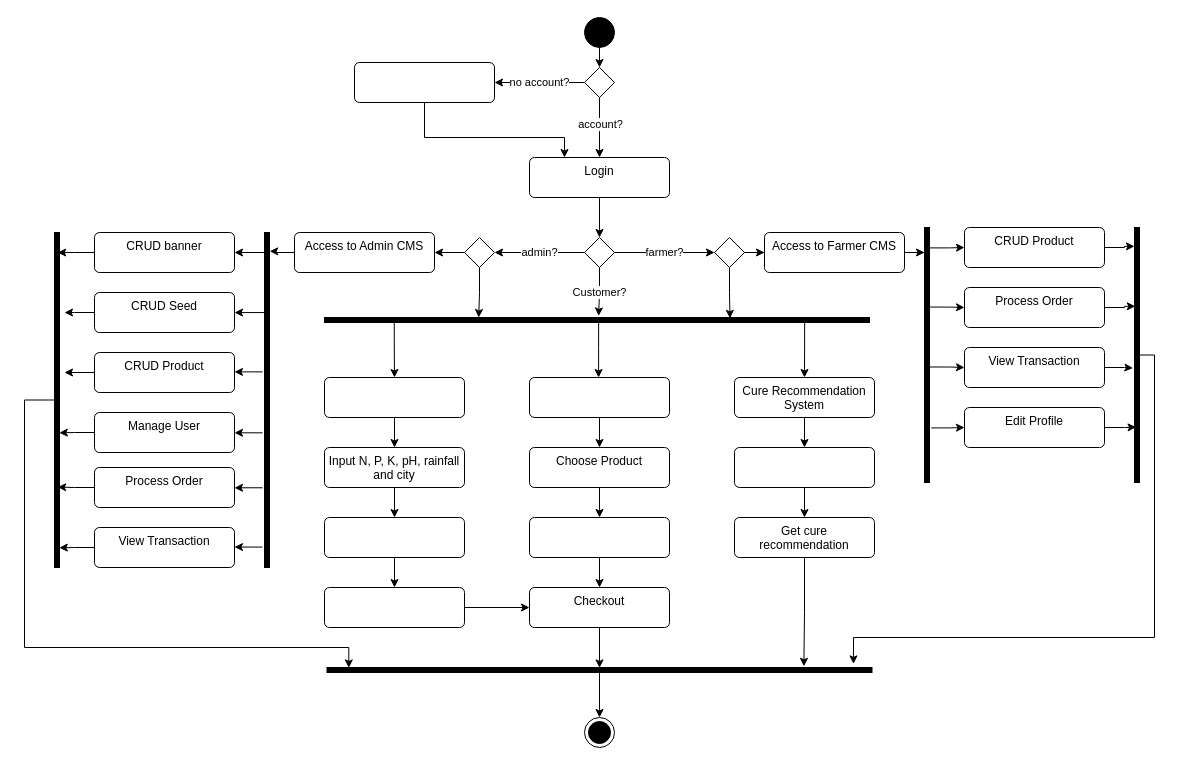
Image size: 1180x765. Some labels were removed from this diagram. The centre of each missing label's shape, as x and y in pixels:
"Add recommended crop seeds to cart" goes at point (394, 607).
"Add to cart" goes at point (599, 537).
"Create account" goes at point (424, 82).
"Crop Recommendation System" goes at point (394, 397).
"Get recommendation for crop" goes at point (394, 537).
"Input N, P, K, and crop name" goes at point (804, 467).
"Market Place" goes at point (599, 397).
